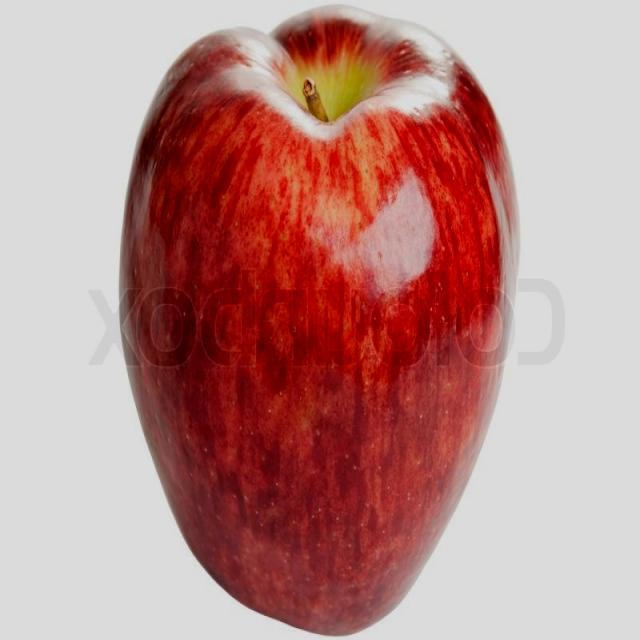apple: (121, 6, 524, 639)
